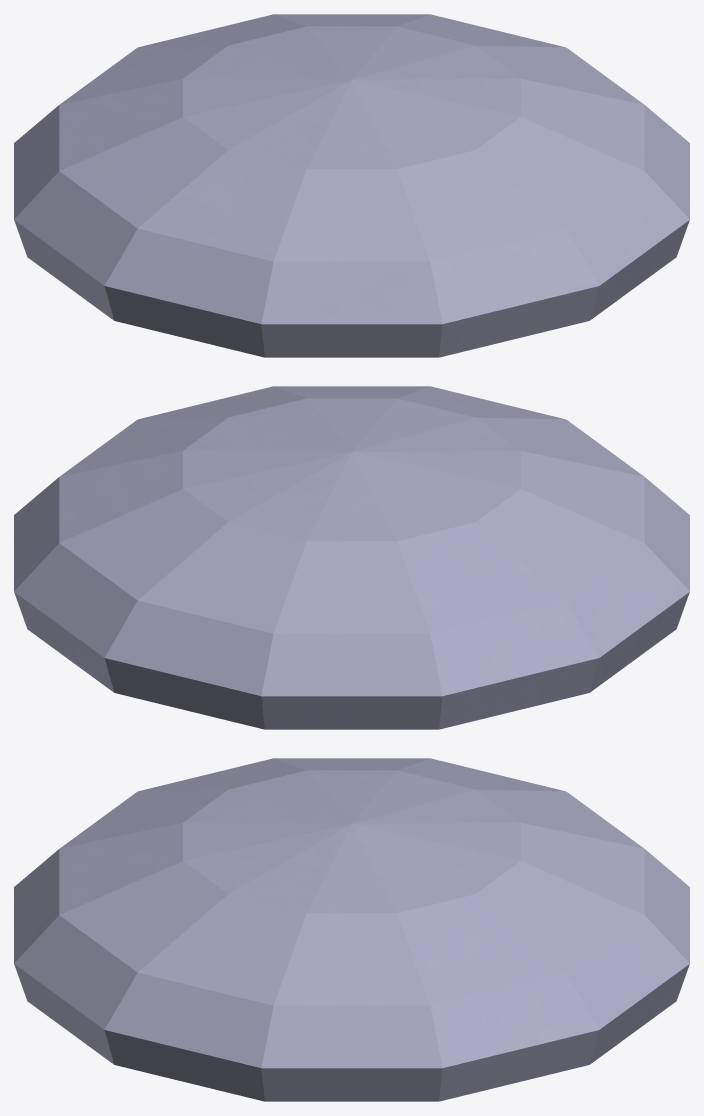
File: timer.fbx
3 renders of one model, top to bottom at view 1: azimuth 30°, elevation 25°; view 2: azimuth 150°, elevation 25°; view 3: azimuth 270°, elevation 25°, orthographic.
Visible parts, largest first — view 1: timer; view 2: timer; view 3: timer.
Part boxes in pixels (x1,y1,x2,y2): timer: (14, 14, 689, 357); timer: (14, 386, 689, 729); timer: (14, 758, 689, 1101).
Size of the model in its own units: 1.93 by 0.4506 by 1.93.
